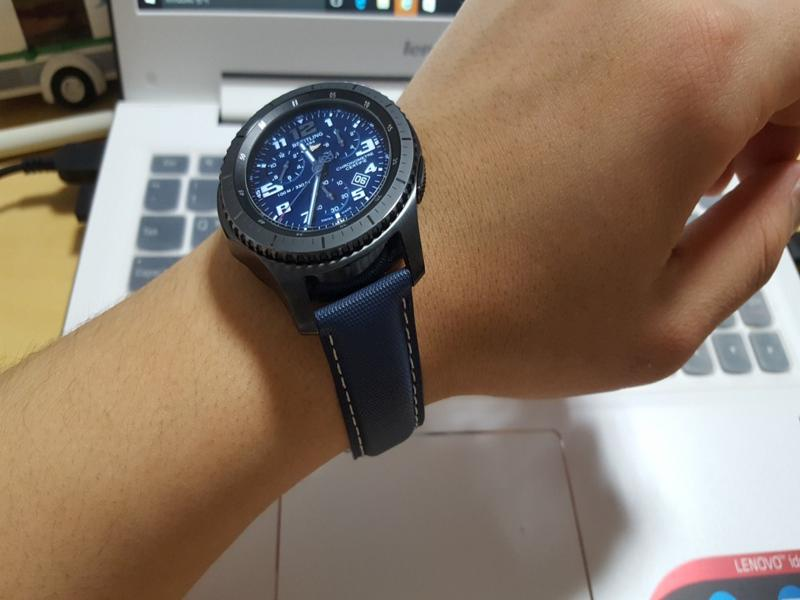watch: (215, 80, 428, 461)
